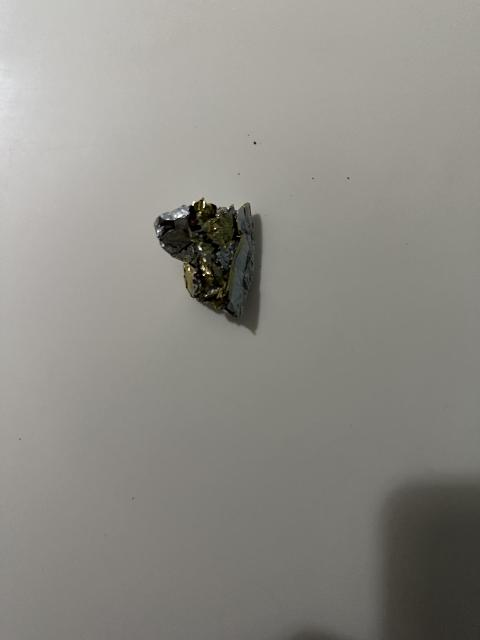Plastik: (146, 192, 279, 319)
